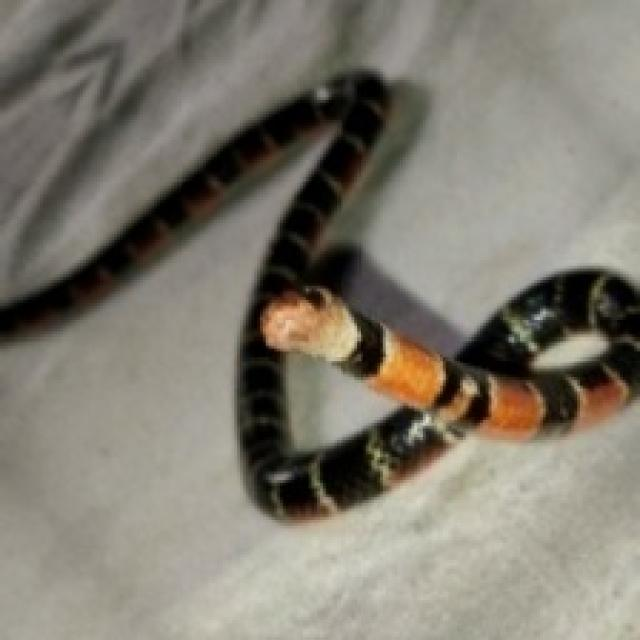barredcoral snake: (0, 71, 640, 519)
